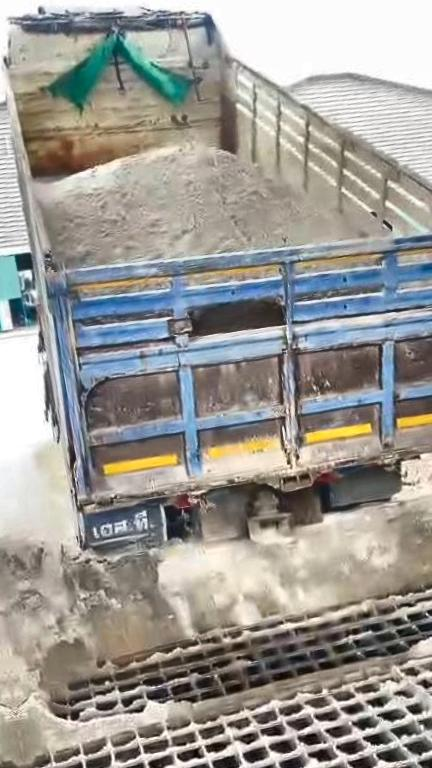sand: (0, 416, 432, 763), (35, 149, 366, 266), (107, 702, 171, 733), (411, 606, 432, 659)
